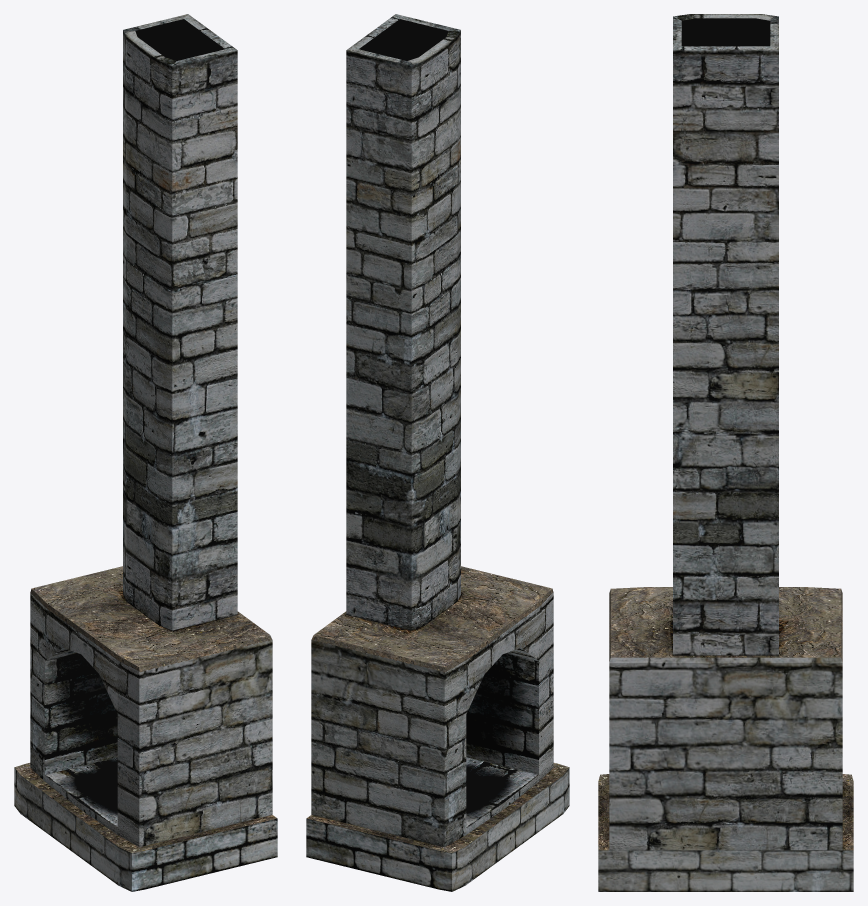
The model's file is Furnace.fbx.
3 views of the same model, side by side, from view 1: azimuth 30°, elevation 25°; view 2: azimuth 150°, elevation 25°; view 3: azimuth 270°, elevation 25° (orthographic). The views are drawn at different scales.
Visible parts, largest first — view 1: Furnace; view 2: Furnace; view 3: Furnace.
Part boxes in pixels (x1,y1,x2,y2): Furnace: (14, 14, 277, 891); Furnace: (306, 14, 569, 891); Furnace: (598, 14, 853, 891).
Size of the model in its own units: 134 by 677 by 187.
